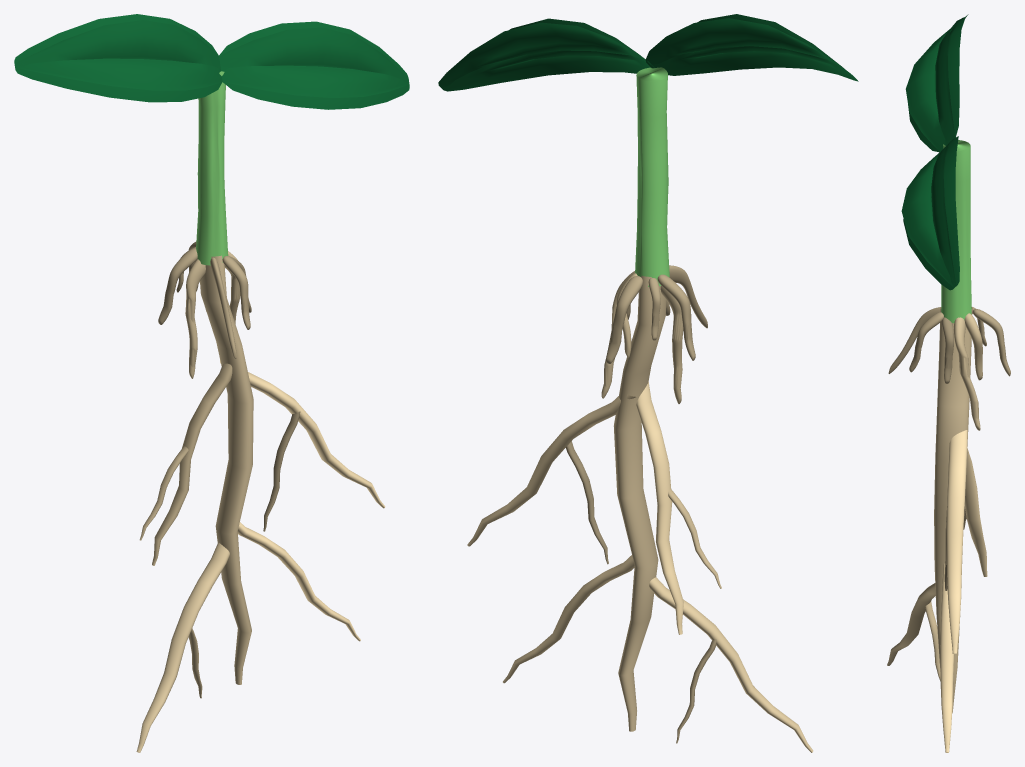
File: Seedling_V5.glb
The picture shows the model from 3 angles, left to right: view 1: azimuth 30°, elevation 25°; view 2: azimuth 150°, elevation 25°; view 3: azimuth 270°, elevation 25°; orthographic projection. The views are drawn at different scales.
Parts seen in each view (by area): view 1: Plane.005, Cylinder.012, Cylinder.011, Cylinder.018, Cylinder.014, Cylinder.013, Cylinder.015, Cube.018, Cylinder.016, Cube.016, Cube.012, Cube.010 (+1 smaller); view 2: Plane.005, Cylinder.012, Cylinder.011, Cylinder.014, Cylinder.013, Cylinder.018, Cylinder.015, Cube.015, Cube.018, Cube.016, Cylinder.016, Cylinder.017; view 3: Plane.005, Cylinder.012, Cylinder.013, Cylinder.011, Cylinder.015, Cylinder.014, Cube.017, Cylinder.018, Cube.013, Cube.015, Cube.011, Cube.010 (+2 smaller).
Boxes of the visible parts, bbox=[...] form: Plane.005: bbox=[14, 14, 409, 109]; Cylinder.012: bbox=[200, 255, 253, 684]; Cylinder.011: bbox=[196, 71, 228, 265]; Cylinder.018: bbox=[136, 542, 229, 752]; Cylinder.014: bbox=[152, 363, 232, 565]; Cylinder.013: bbox=[220, 360, 385, 508]; Cylinder.015: bbox=[237, 522, 360, 641]; Cube.018: bbox=[185, 259, 205, 378]; Cylinder.016: bbox=[263, 411, 300, 531]; Cube.016: bbox=[158, 248, 197, 324]; Cube.012: bbox=[222, 256, 250, 329]; Cube.010: bbox=[210, 257, 236, 358]; Plane.005: bbox=[438, 14, 858, 91]; Cylinder.012: bbox=[613, 275, 666, 731]; Cylinder.011: bbox=[635, 67, 669, 286]; Cylinder.014: bbox=[636, 382, 683, 634]; Cylinder.013: bbox=[467, 394, 635, 546]; Cylinder.018: bbox=[649, 577, 813, 752]; Cylinder.015: bbox=[503, 555, 634, 683]; Cube.015: bbox=[606, 276, 643, 363]; Cube.018: bbox=[660, 285, 683, 403]; Cube.016: bbox=[657, 274, 695, 360]; Cylinder.016: bbox=[565, 441, 608, 564]; Cylinder.017: bbox=[668, 489, 721, 588]; Plane.005: bbox=[901, 14, 968, 290]; Cylinder.012: bbox=[934, 307, 972, 712]; Cylinder.013: bbox=[946, 430, 967, 653]; Cylinder.011: bbox=[941, 140, 971, 323]; Cylinder.015: bbox=[940, 563, 954, 752]; Cylinder.014: bbox=[964, 448, 987, 576]; Cube.017: bbox=[954, 317, 980, 430]; Cylinder.018: bbox=[887, 583, 935, 665]; Cube.013: bbox=[964, 313, 982, 380]; Cube.015: bbox=[973, 309, 1010, 376]; Cube.011: bbox=[942, 317, 953, 383]; Cube.010: bbox=[888, 307, 940, 373].
Size of the model in its own units: 2.37 by 4.08 by 0.7204.
